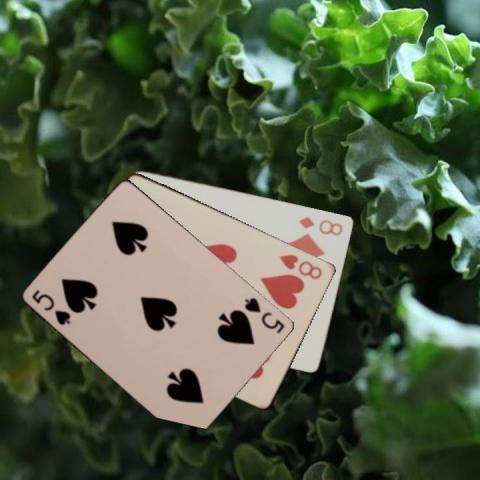5s: (241, 294, 286, 335), (29, 286, 72, 326)
8d: (296, 214, 345, 238)
8h: (276, 250, 325, 280)
